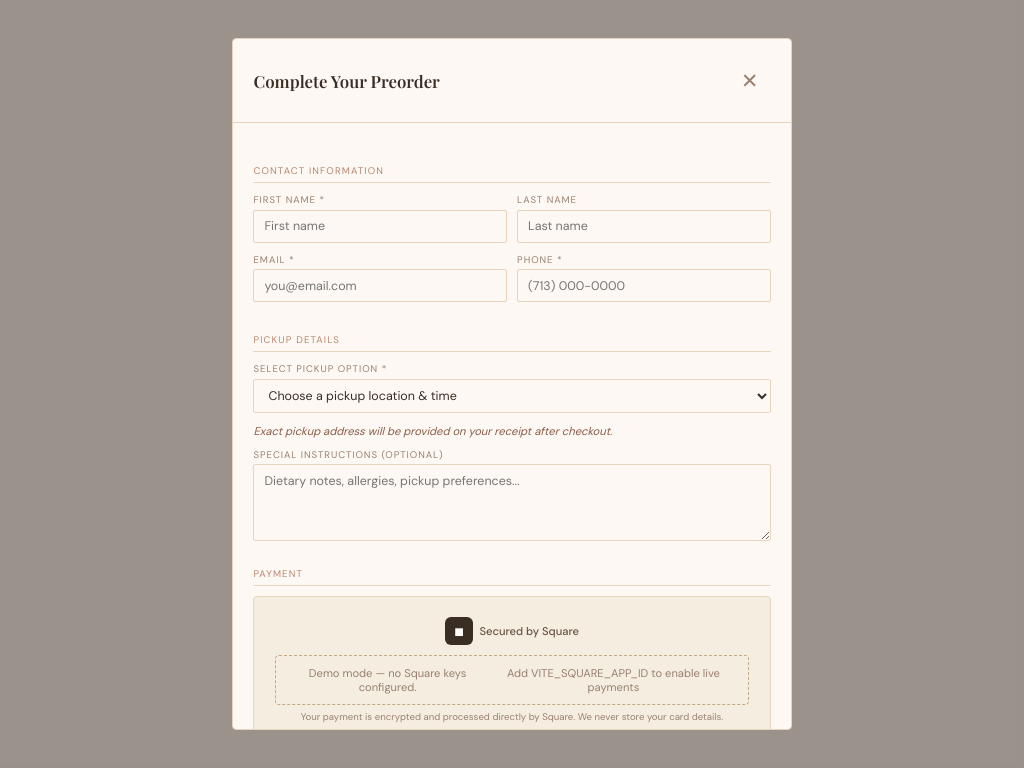
Scenario: CheckoutModal – validation unit tests › empty first name shows "First name is required"
# Leave first name empty, fill other required fields
Type "a@b.com" into the field with placeholder "you@email.com" at (380, 286), box [254, 269, 507, 302]
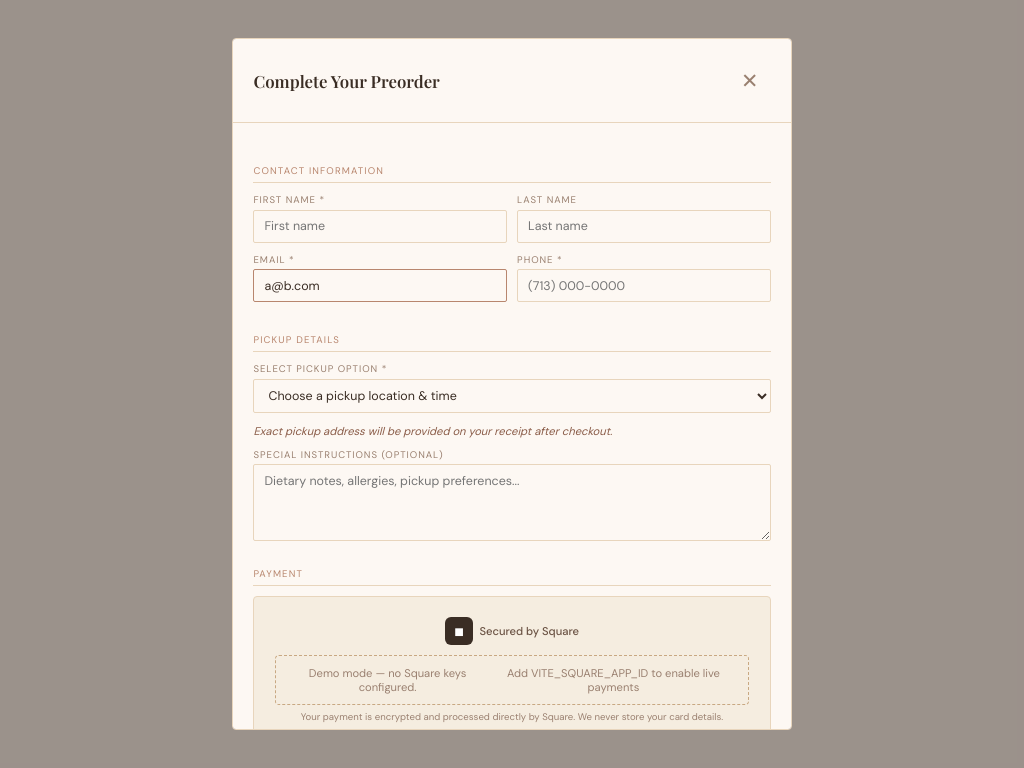
Type "7135551234" into the field with placeholder "(713) 000-0000" at (644, 286), box [517, 269, 770, 302]
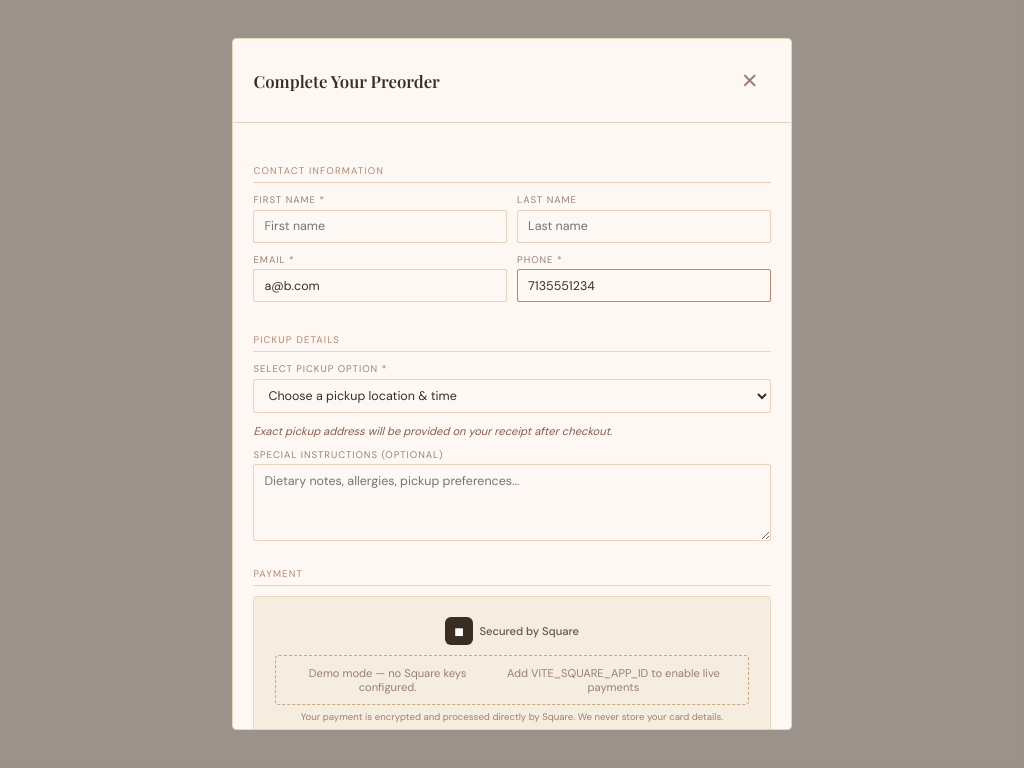
# Select a pickup option
Select "Spring, TX 77068 — Sunday 4/19 at 3:00 PM" in the dropdown at (512, 396), box [254, 378, 771, 414]
(page scrolled)
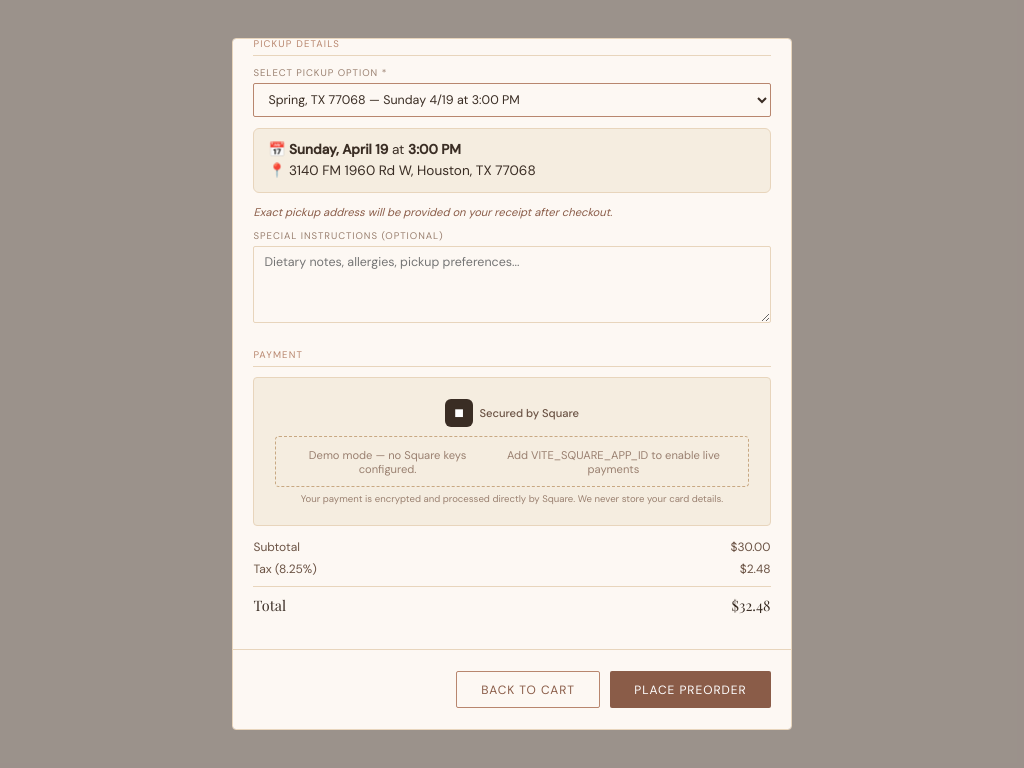
Click the button "Place Preorder" at (690, 690), box [610, 671, 771, 708]
(page scrolled)
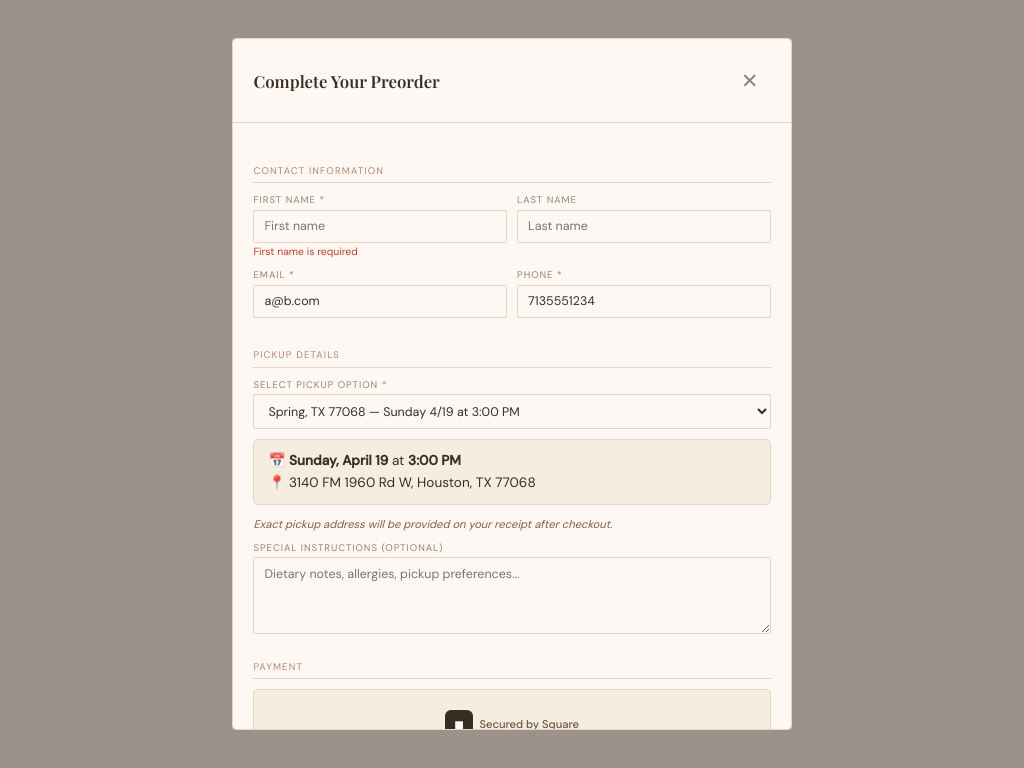
Check: the text "First name is required" is shown, box [254, 245, 358, 258]
